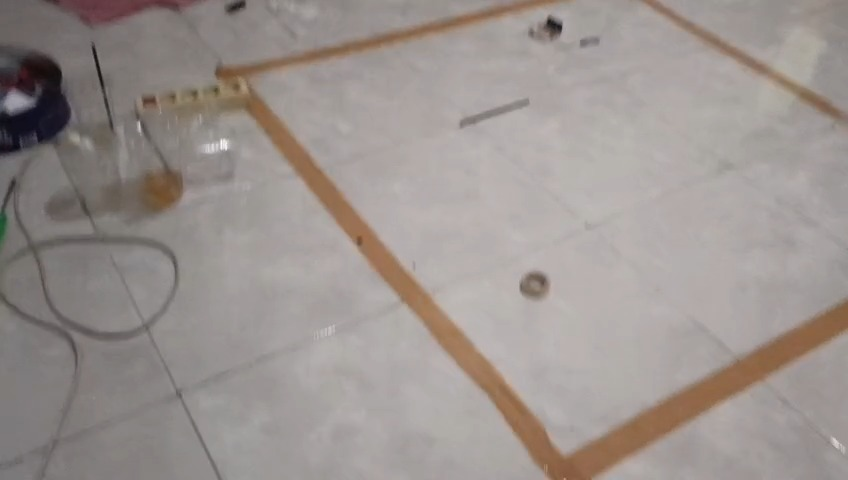floor marking: (248, 97, 847, 479), (216, 0, 554, 76), (640, 0, 847, 120)
